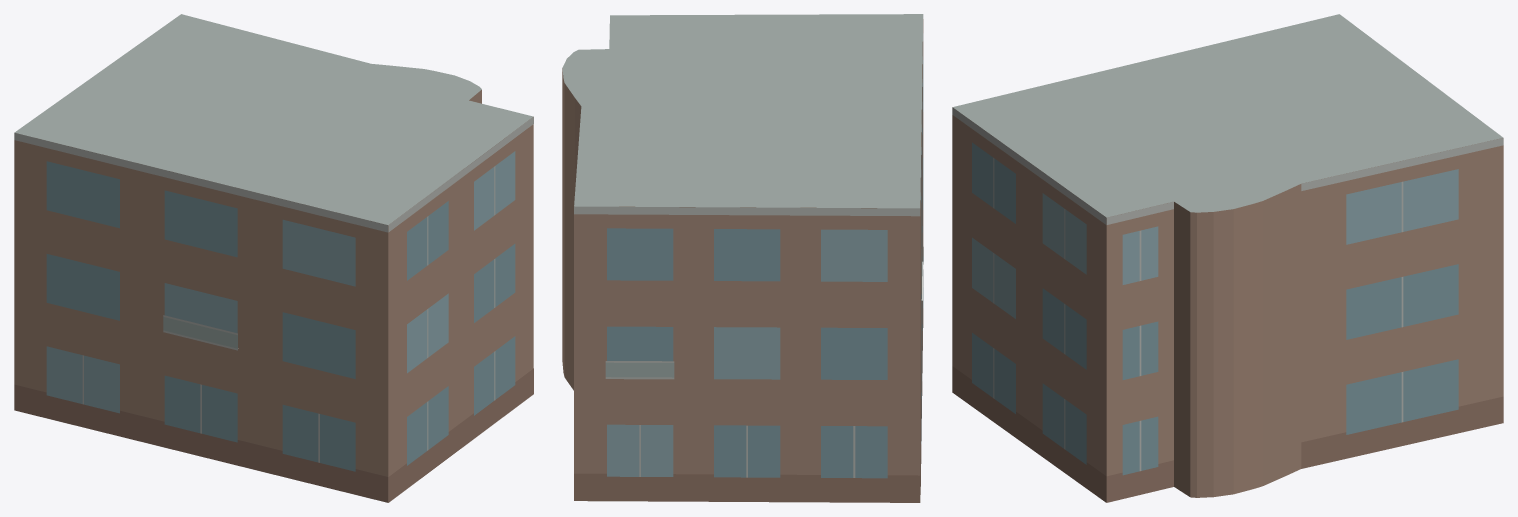
File: survey-upis-33032641.glb
3 renders of one model, left to right at view 1: azimuth 30°, elevation 25°; view 2: azimuth 150°, elevation 25°; view 3: azimuth 270°, elevation 25°, orthographic. The views are drawn at different scales.
Parts seen in each view (by area): view 1: survey-upis-33032641.tmp; view 2: survey-upis-33032641.tmp; view 3: survey-upis-33032641.tmp.
Boxes of the visible parts, bbox=[...] form: survey-upis-33032641.tmp: bbox=[14, 14, 533, 502]; survey-upis-33032641.tmp: bbox=[562, 14, 923, 502]; survey-upis-33032641.tmp: bbox=[952, 14, 1503, 502].
Size of the model in its own units: 14.01 by 9.15 by 16.03.
